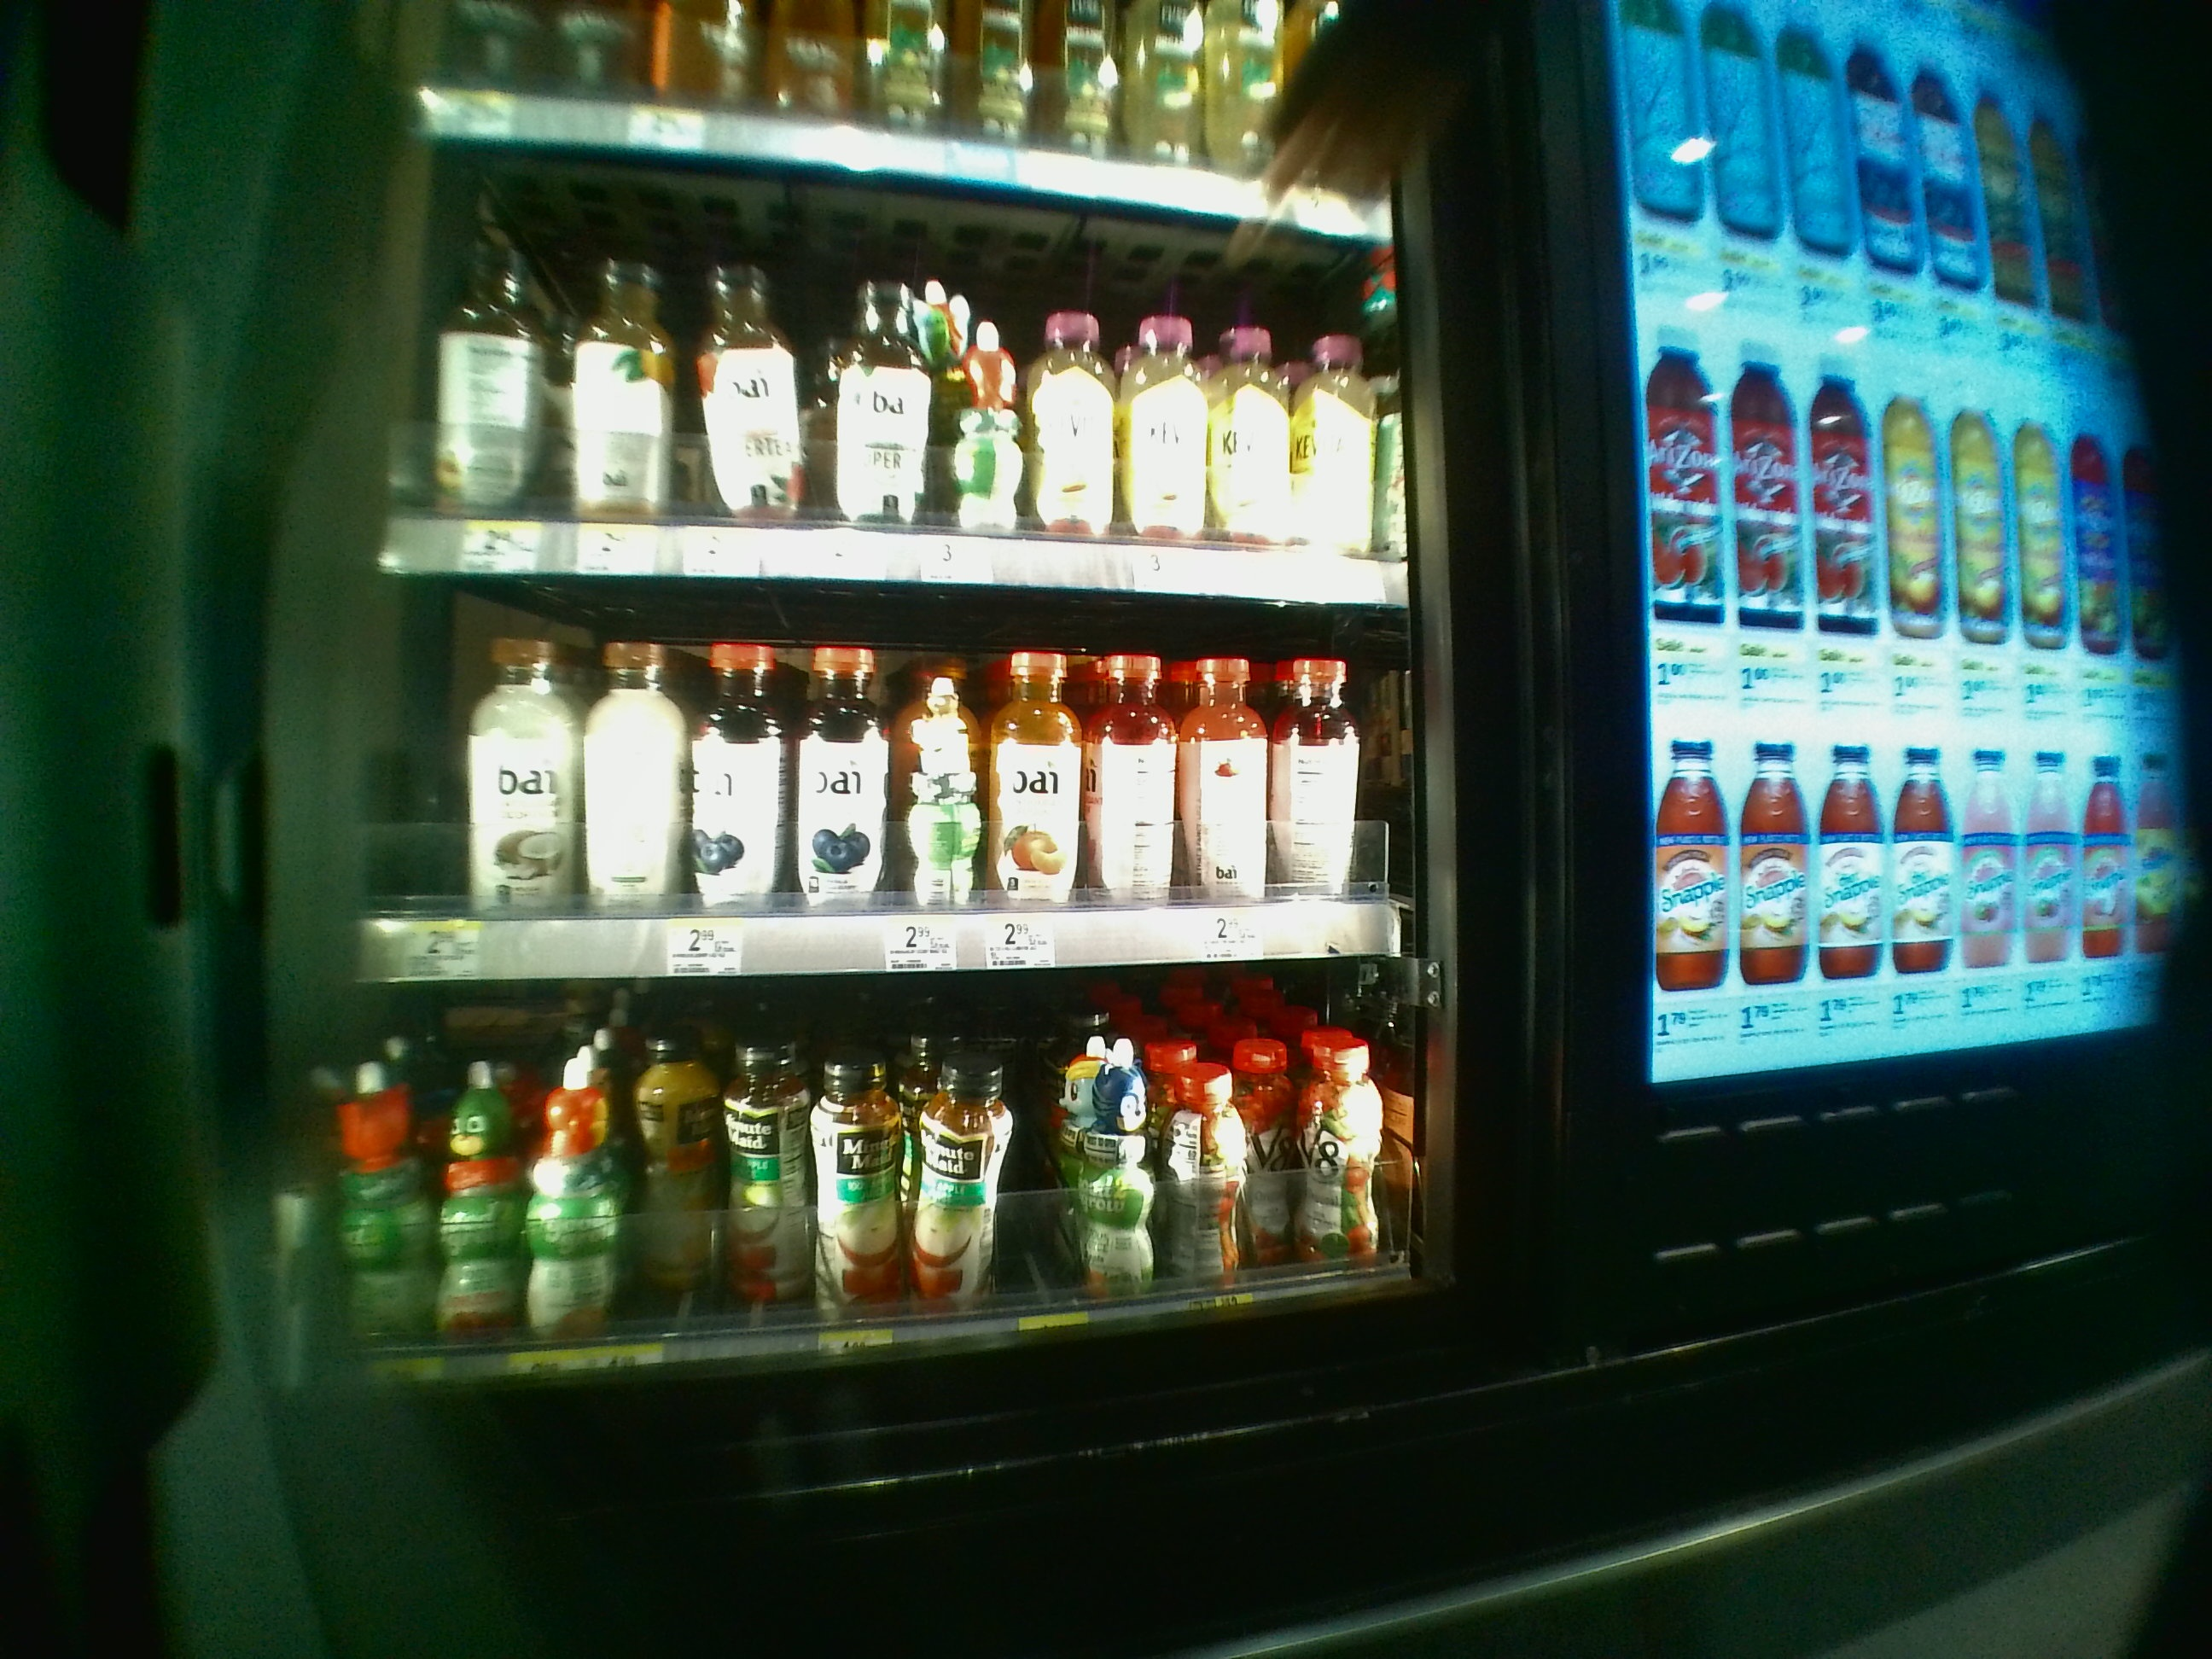shelf: (376, 145, 1413, 598), (343, 1002, 1433, 1385), (354, 598, 1411, 979)
